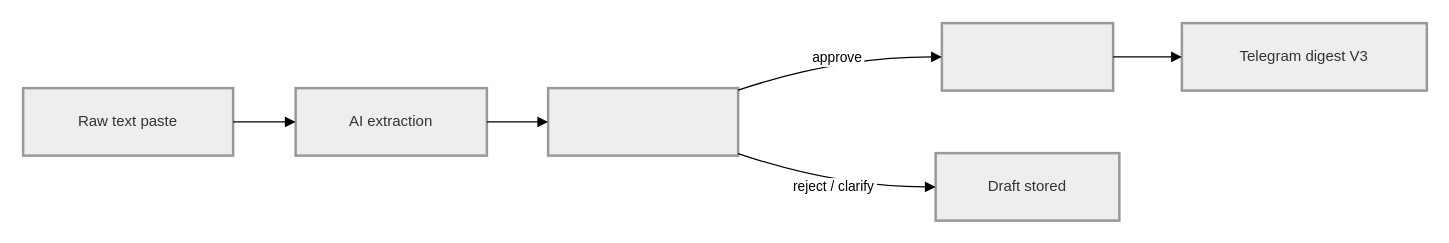
This 1449x243 diagram has some shape labels left out. The shapes that lost their labels are listed below. From the top down, each one's box as (x1, y1, x2, y2) in pixels, then its label:
(940, 21, 1114, 91): Trello card
(546, 86, 739, 156): Review table
